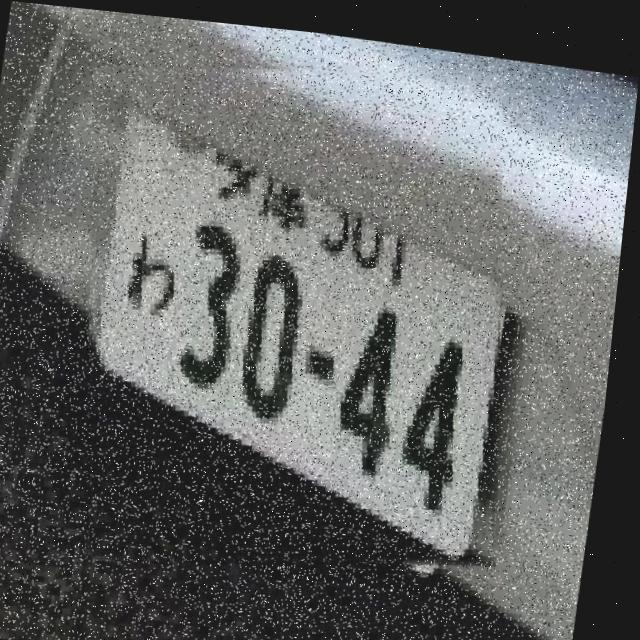LicensePlate: (51, 26, 549, 592)
